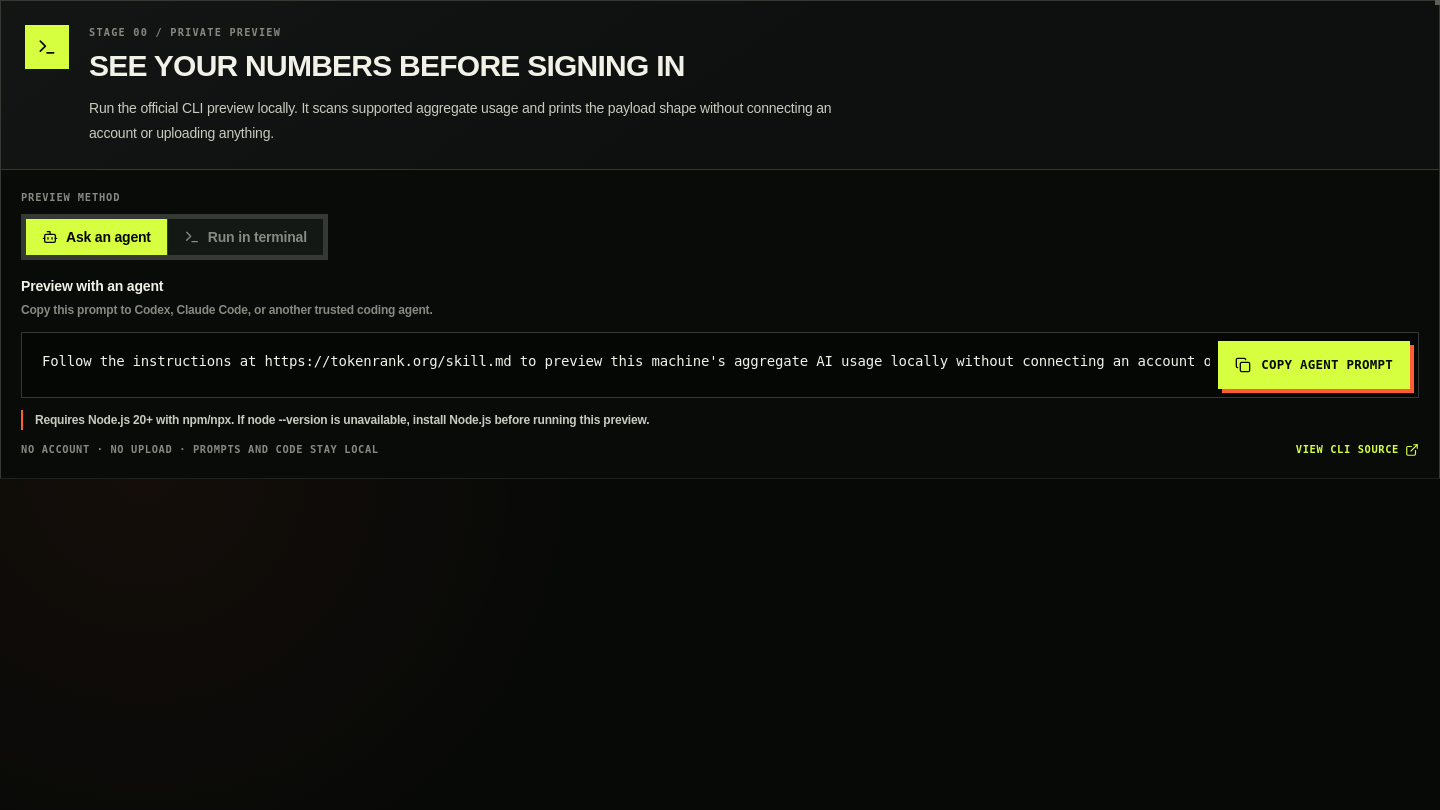
LocalPreviewCommand › defaults to an account-free Agent prompt and links to the CLI source
Expected: the panel named "Ask an agent" shows "https://tokenrank.org/skill.md", [42,353,1352,369]
Expected: the text "Node.js 20+ with npm/npx" is shown, [35,413,649,427]
Click the button "Copy Agent prompt".
click(1314, 365)  # box [1218,341,1410,389]
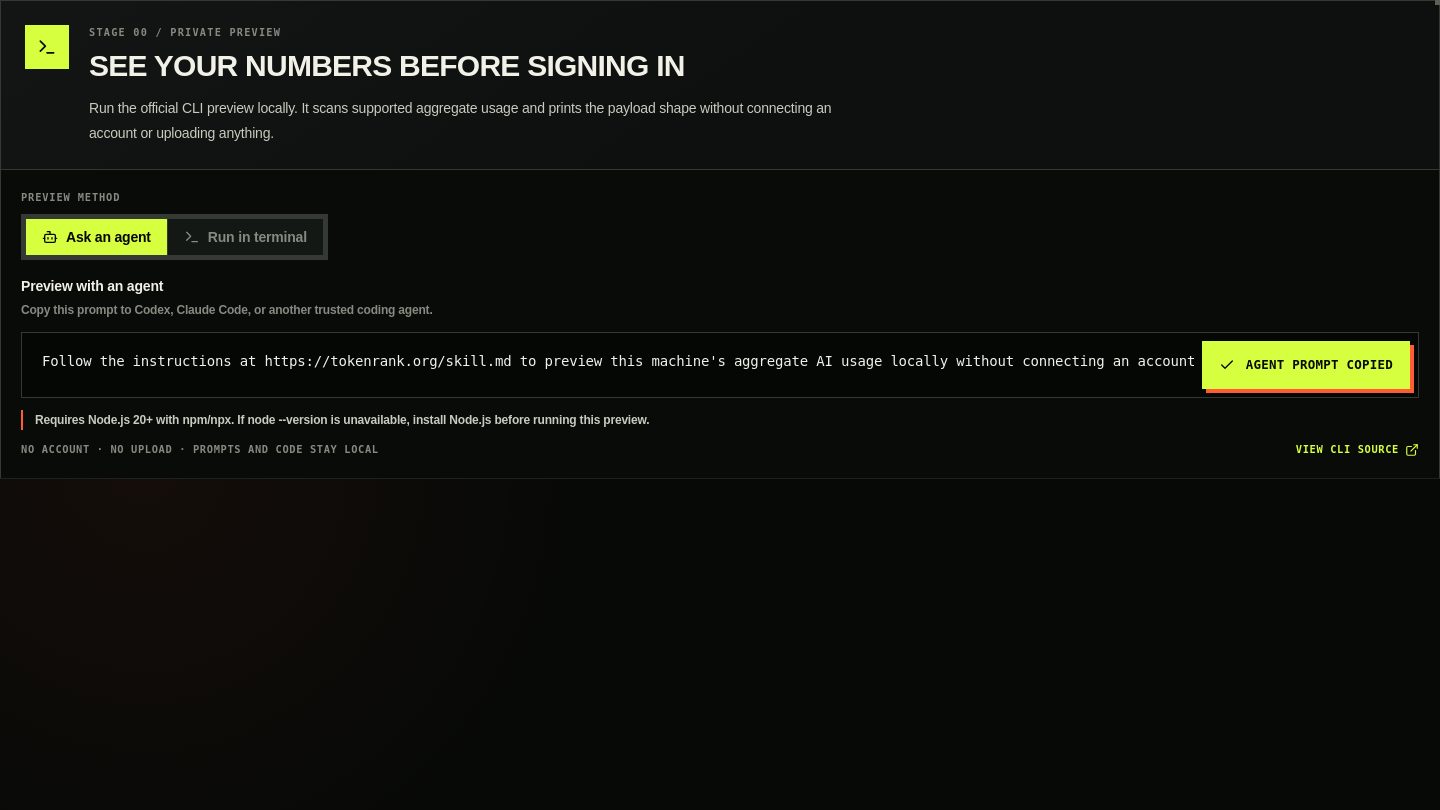
Expected: the button "Agent prompt copied" is shown, [1202,341,1410,389]
